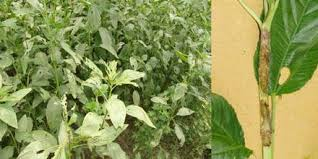damaged_jute: (1, 7, 206, 158), (210, 1, 315, 157)
